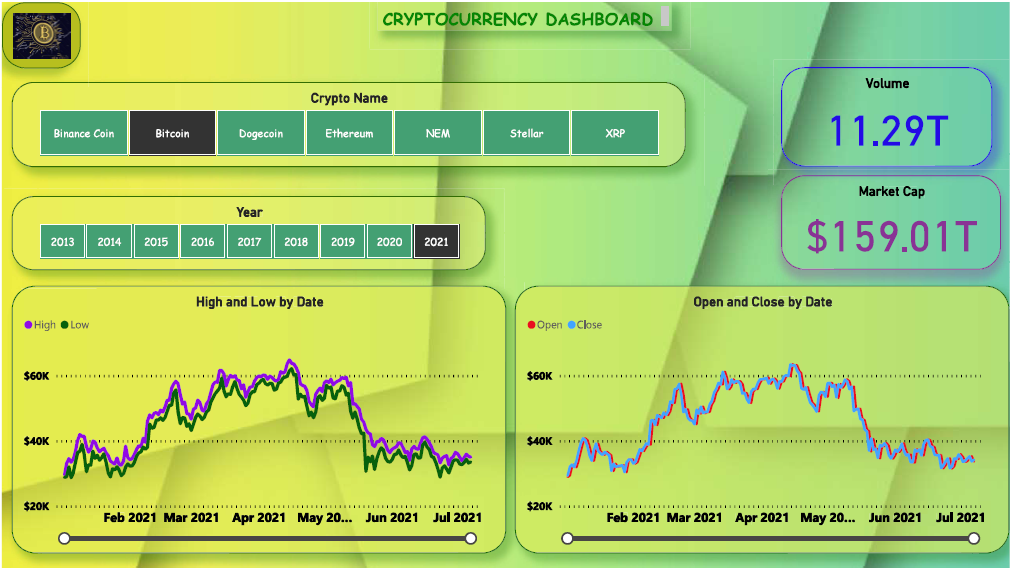

What the dashboard file says about the page in this screenshot:
{"tool":"powerbi","page":{"name":"Page 2","canvas":[1280,720],"ordinal":1},"visuals":[{"type":"slicer","title":"Year","fields":{"Values":["Crypto_data.Year"]},"box":[12.5,246.3,601.8,93.5],"z":0},{"type":"slicer","title":"Crypto Name","fields":{"Values":["Crypto_data.Name"]},"box":[12.5,101.3,855.9,107.6],"z":1000},{"type":"lineChart","fields":{"Y":["Sum(Crypto_data.High)","Sum(Crypto_data.Low)"],"Category":["Crypto_data.Date"]},"box":[12.5,360.1,628.3,339.9],"z":2000},{"type":"image","box":[0,0,99.8,84.2],"z":3000},{"type":"textbox","box":[477.1,0,374.2,35.9],"z":4000},{"type":"card","title":"Market Cap","fields":{"Values":["Sum(Crypto_data.Marketcap)"]},"box":[990,219.8,279.1,120],"z":5000},{"type":"card","title":"Volume","fields":{"Values":["Sum(Crypto_data.Volume)"]},"box":[990,82.6,268.2,126.3],"z":6000},{"type":"lineChart","fields":{"Y":["Sum(Crypto_data.Open)","Sum(Crypto_data.Close)"],"Category":["Crypto_data.Date"]},"box":[651.7,360.1,628.3,339.9],"z":7000}]}

Visuals, with their boxes in screenshot pixels (x1, y1, x2, y2), scaled from the page's 1280x720 canvas onto the 1012x568 screenshot:
"Year" slicer: 10 194 486 268
"Crypto Name" slicer: 10 80 687 165
lineChart - Sum(Crypto_data.High) x Sum(Crypto_data.Low): 10 284 507 552
image: 0 0 79 66
textbox: 377 0 673 28
"Market Cap" card: 783 173 1003 268
"Volume" card: 783 65 995 165
lineChart - Sum(Crypto_data.Open) x Sum(Crypto_data.Close): 515 284 1011 552
